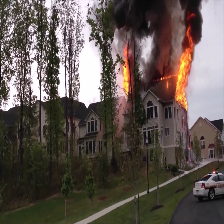fire_h: (173, 24, 194, 111), (122, 43, 130, 96)
fire_l: (160, 73, 177, 80), (188, 12, 195, 19), (166, 80, 170, 89)
